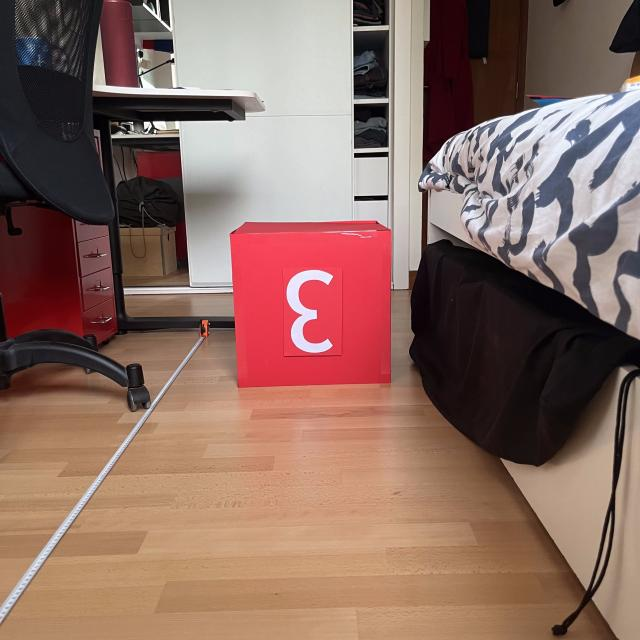box: (225, 216, 396, 390)
